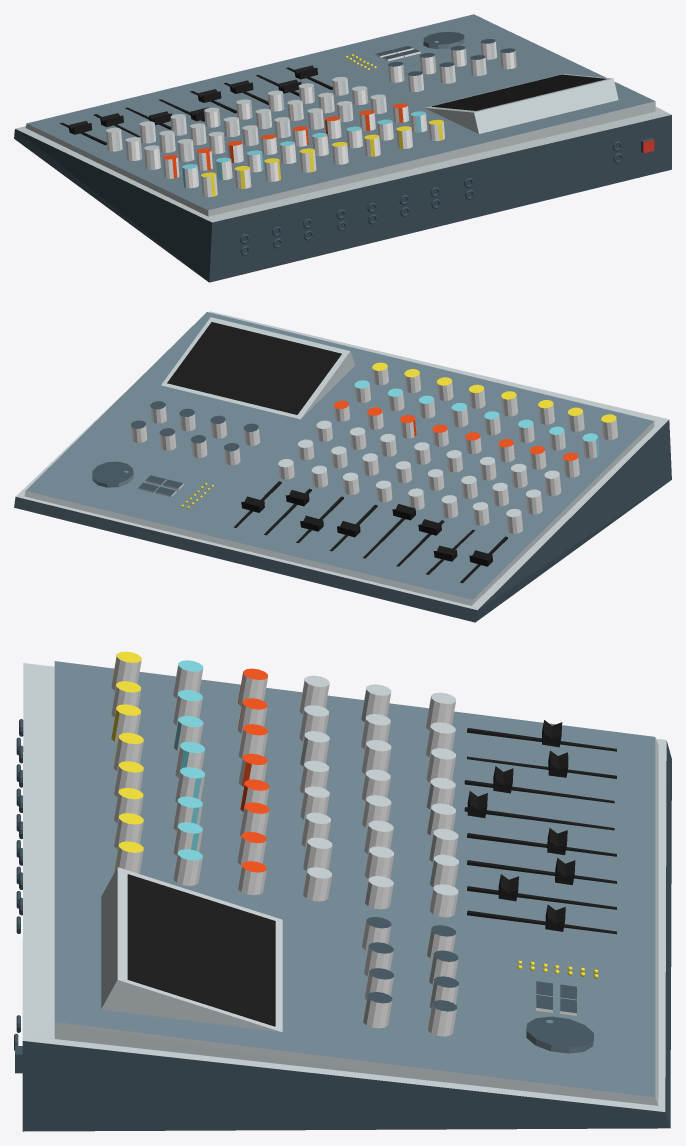
The model's file is AudioMixer.glb.
3 renders of one model, top to bottom at view 1: azimuth 30°, elevation 25°; view 2: azimuth 150°, elevation 25°; view 3: azimuth 270°, elevation 25°, orthographic. The views are drawn at different scales.
Parts seen in each view (by area): view 1: group1044398291, group46021557, group1285066321, group79297576, group585407428; view 2: group1044398291, group46021557, group79297576, group1285066321, group585407428; view 3: group1044398291, group46021557, group79297576, group1285066321, group585407428, group1928956943, group1691023472, group604880534, group944311541, group1115758431, group916088644, group1304572911 (+45 smaller).
Part boxes in pixels (x1,y1,x2,y2): group1044398291: (25, 14, 655, 216); group46021557: (14, 15, 671, 282); group1285066321: (424, 74, 618, 133); group79297576: (432, 74, 606, 110); group585407428: (423, 31, 464, 49); group1044398291: (24, 312, 654, 605); group46021557: (14, 311, 671, 622); group79297576: (167, 322, 341, 414); group1285066321: (161, 317, 355, 419); group585407428: (92, 461, 133, 487); group1044398291: (54, 661, 658, 1105); group46021557: (22, 663, 671, 1131); group79297576: (127, 874, 275, 1026); group1285066321: (101, 867, 282, 1032); group585407428: (526, 1016, 593, 1053); group1928956943: (173, 849, 202, 885); group1691023472: (363, 992, 392, 1028); group604880534: (428, 1000, 456, 1036); group944311541: (303, 867, 331, 901); group1115758431: (238, 861, 266, 895); group916088644: (111, 651, 141, 690); group1304572911: (299, 675, 329, 714).
Bounding box in the file's own units: 3.44 × 0.5546 × 2.57.
